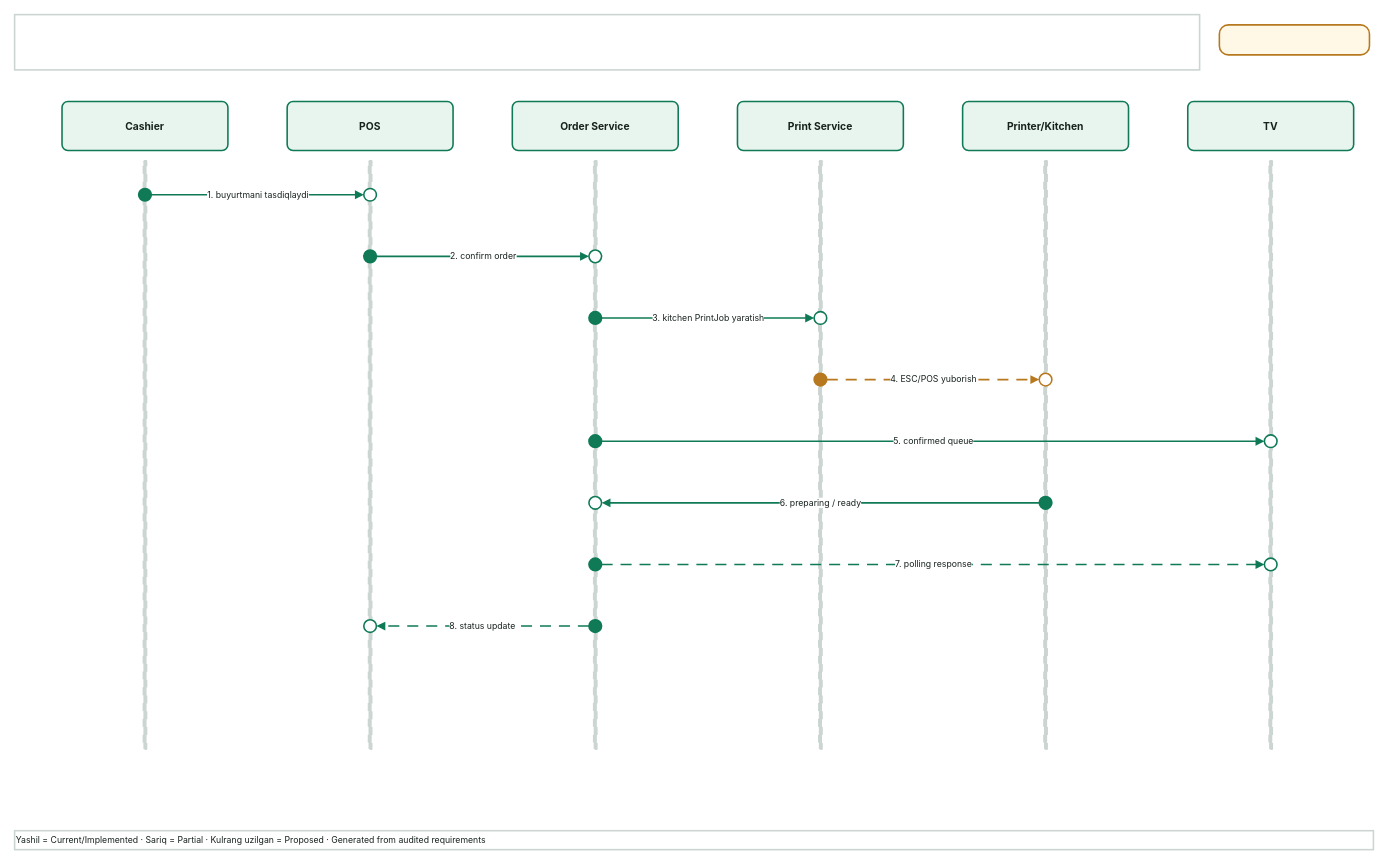
The diagram is 1387 pixels wide and 863 high, and some of its shapes have lost their labels. The box of each missing label's shape, as (x1, y1, x2, y2) in pixels:
Current + Partial: (1218, 24, 1370, 55)
D08 · Kitchen Flow UML Sequence · osonCafe SDLC: (13, 13, 1200, 70)
